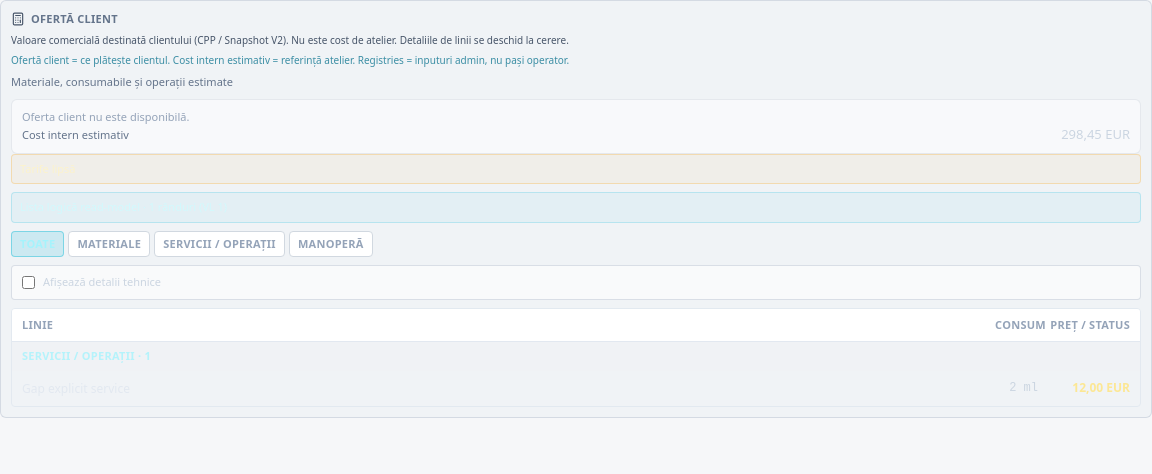
Test: IntakeV6LiveCalculationSummary › keeps explicit gaps distinct from missing pricing when quantity and subtotal exist
Click the checkbox labelled "Afișează detalii tehnice" at (28, 283), box [22,276,35,289]
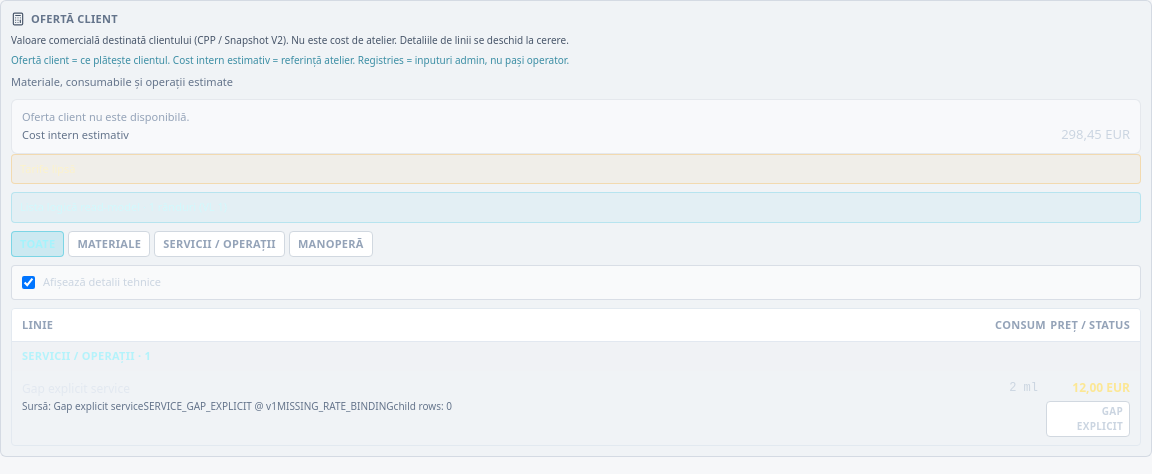
expect the element with test id "intake-v6-live-material-cost-service.gap_explicit" does not show "fără tarif": met, box [1046,379,1130,437]
expect the element with test id "intake-v6-live-material-cost-service.gap_explicit" shows "gap explicit": met, box [1077,404,1123,433]
